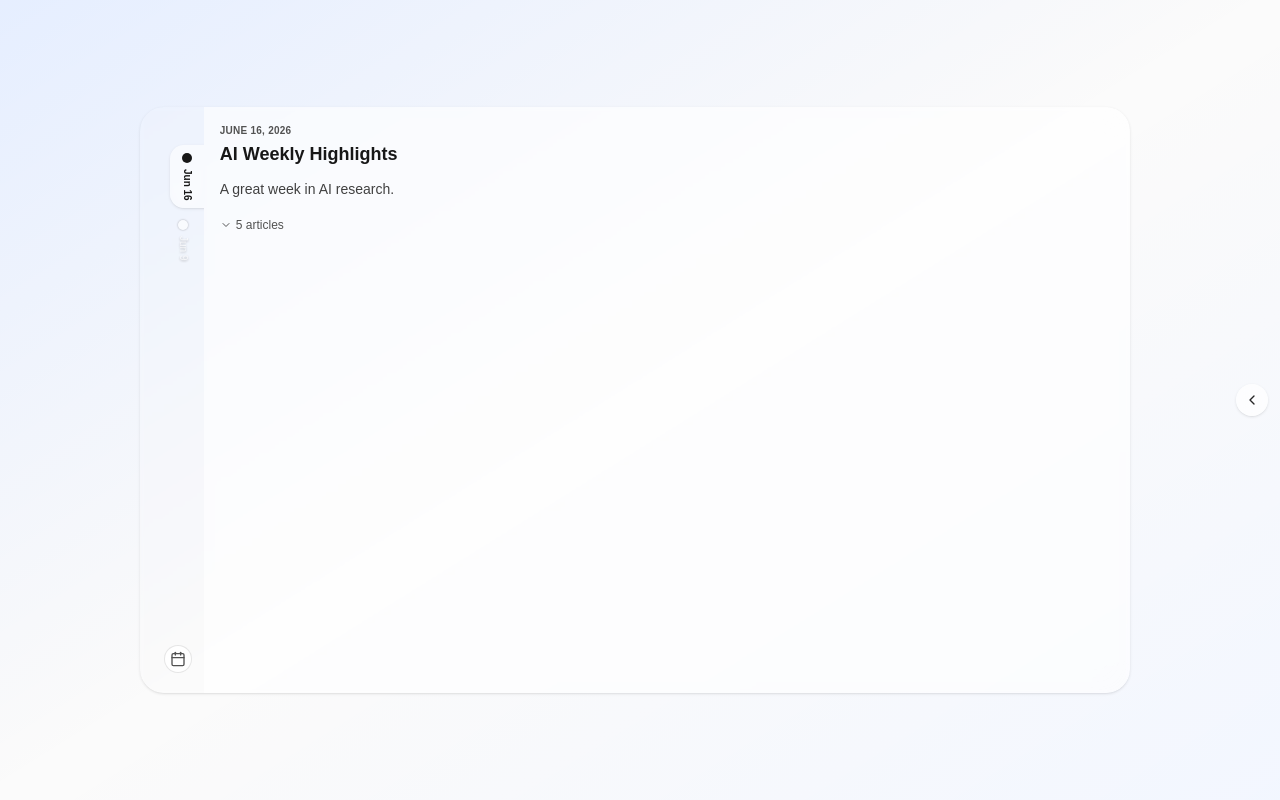
WeeklyReportWidget › collapses the source pill list again after switching to a different report
Expected: the heading "AI Weekly Highlights" is shown, [220,142,398,166]
Click the button "5 articles" at {"x": 252, "y": 225}, box [220,217,284,233]
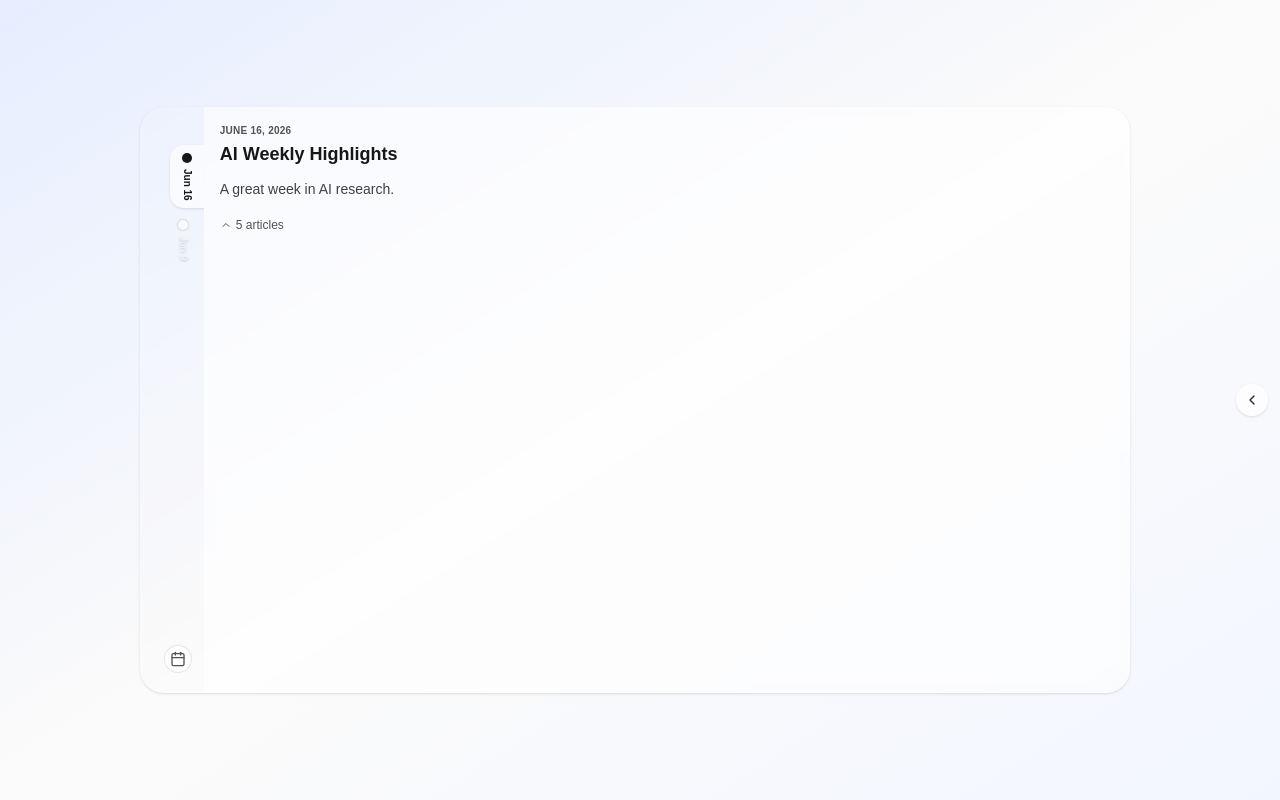
Click the option "Jun 9" at {"x": 183, "y": 241}, box [178,220,188,261]
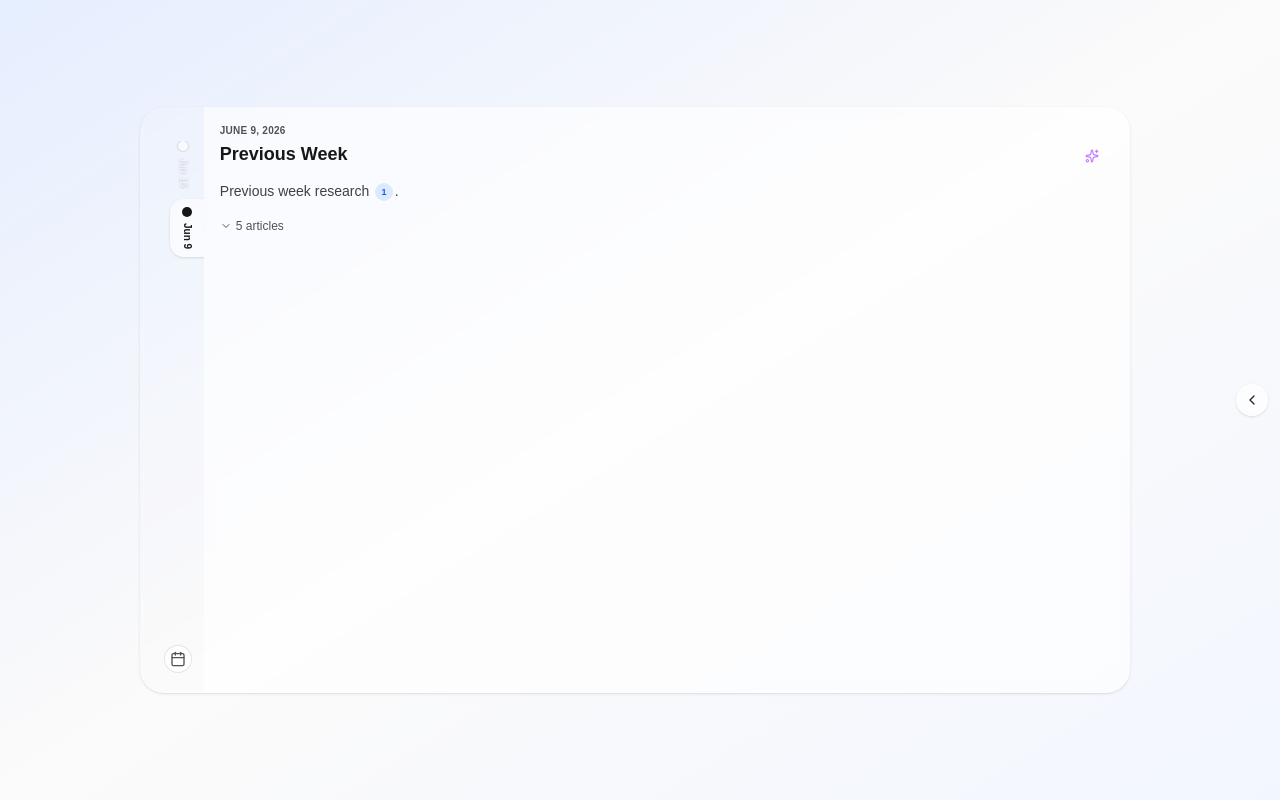
Expected: the heading "Previous Week" is shown, [220,142,348,166]
